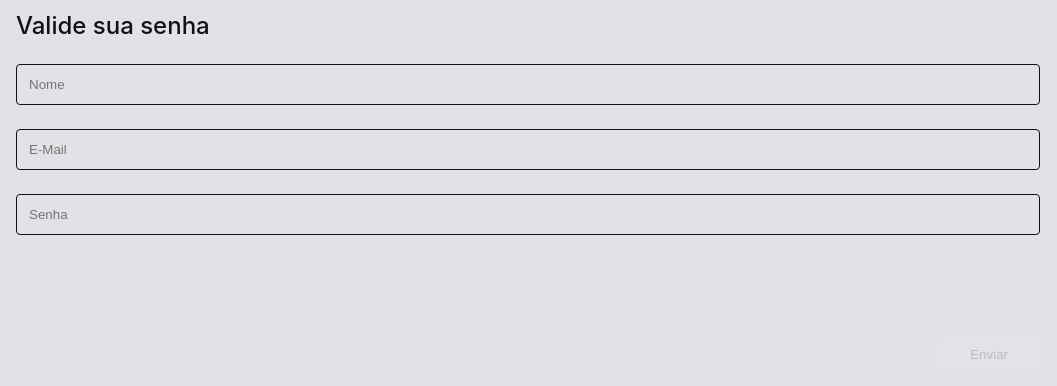
Scenario: Form Submission › should show password tips when password length is 1 to 3 characters
The width and height of the screenshot is (1057, 386).
Type "12" into the field named "password". click: (528, 215)
box: [16,194,1040,235]
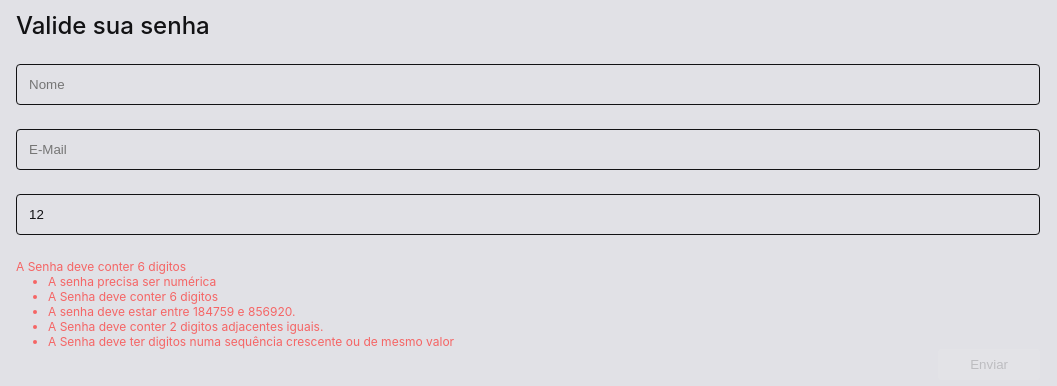
Expected: the list item "A senha precisa ser numérica" is shown, [48,274,216,289]
Expected: the text "A Senha deve conter 6 digitos" is shown, [16,259,186,274]
Expected: the list item "A senha deve estar entre 184759 e 856920." is shown, [48,304,295,319]
